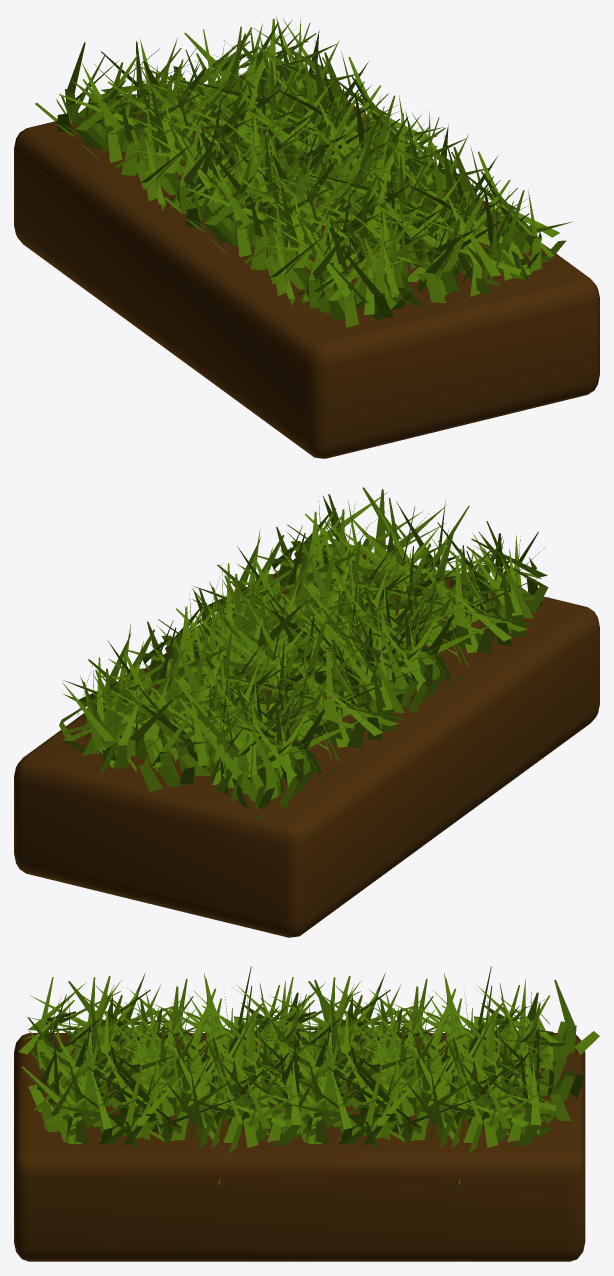
File: grass.fbx
3 renders of one model, top to bottom at view 1: azimuth 30°, elevation 25°; view 2: azimuth 150°, elevation 25°; view 3: azimuth 270°, elevation 25°, orthographic. The views are drawn at different scales.
Visible parts, largest first — view 1: Cube.001; view 2: Cube.001; view 3: Cube.001.
Part boxes in pixels (x1,y1,x2,y2): Cube.001: (14,16,599,458); Cube.001: (14,487,599,937); Cube.001: (14,966,599,1261).
Size of the model in its own units: 359 by 231 by 661.
